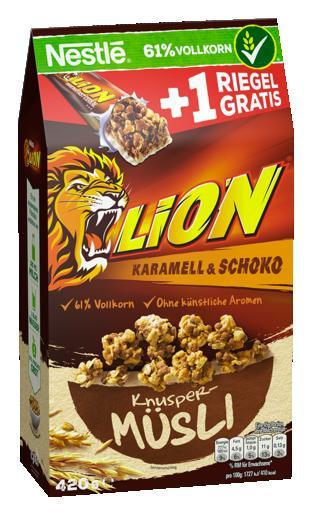cereals: (16, 18, 297, 498)
